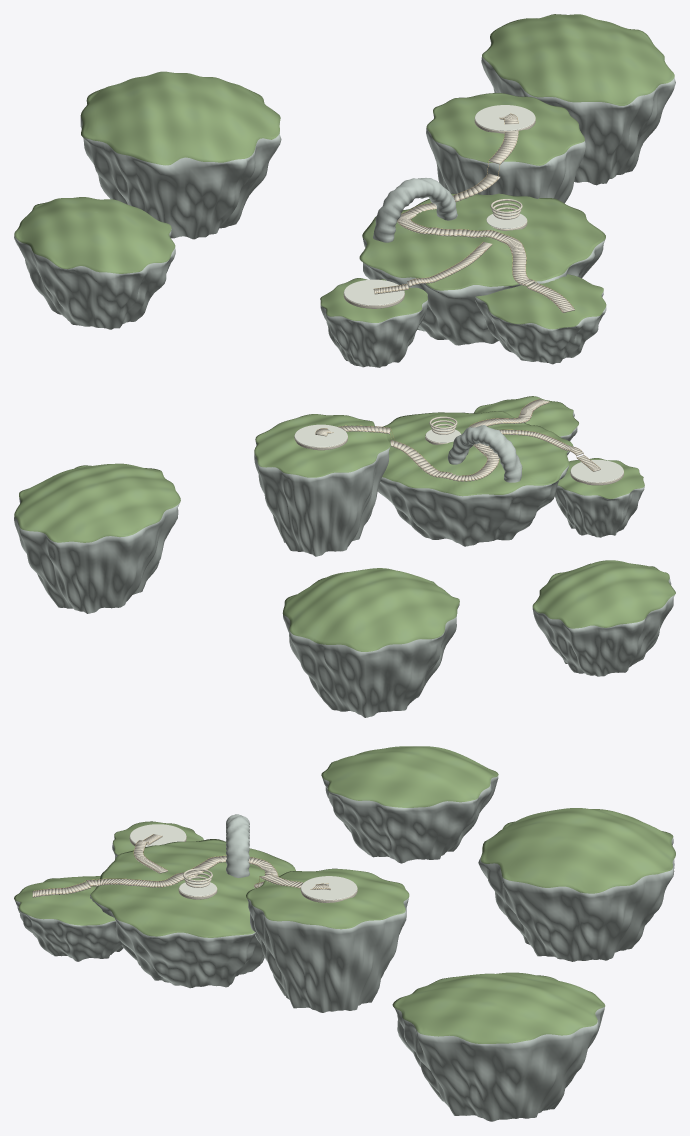
Rendered from cloud-world.glb.
3 renders of one model, top to bottom at view 1: azimuth 30°, elevation 25°; view 2: azimuth 150°, elevation 25°; view 3: azimuth 270°, elevation 25°, orthographic. The views are drawn at different scales.
Parts seen in each view (by area): view 1: Island_FarNorth.003, Island_FarEast.003, Island_Main.003, Island_FarWest.003, Island_Summit.003, Island_Arrival.003, Island_Conversation.003, Path_Stonework_0.003, Natural_Stone_Arch.003, PlatformRim_summit.003, PlatformRim_interview.003, Path_Stonework_1.003; view 2: Island_FarNorth.003, Island_FarEast.003, Island_Main.003, Island_Summit.003, Island_FarWest.003, Island_Conversation.003, Path_Stonework_0.003, Island_Arrival.003, Natural_Stone_Arch.003, PlatformRim_summit.003, PlatformRim_interview.003, Path_Stonework_1.003; view 3: Island_FarEast.003, Island_FarNorth.003, Island_Main.003, Island_Summit.003, Island_FarWest.003, Island_Arrival.003, Path_Stonework_0.003, Natural_Stone_Arch.003, PlatformRim_summit.003, PlatformRim_interview.003, Island_Conversation.003.
Part boxes in pixels (<box>): Island_FarNorth.003: <box>80,71,281,239</box>; Island_FarEast.003: <box>481,14,675,185</box>; Island_Main.003: <box>359,193,605,345</box>; Island_FarWest.003: <box>14,197,175,329</box>; Island_Summit.003: <box>426,93,586,203</box>; Island_Arrival.003: <box>475,274,606,364</box>; Island_Conversation.003: <box>320,278,427,367</box>; Path_Stonework_0.003: <box>397,114,574,312</box>; Natural_Stone_Arch.003: <box>373,178,457,242</box>; PlatformRim_summit.003: <box>475,105,535,130</box>; PlatformRim_interview.003: <box>344,279,404,305</box>; Path_Stonework_1.003: <box>373,242,492,294</box>; Island_FarNorth.003: <box>282,568,459,717</box>; Island_FarEast.003: <box>14,463,180,613</box>; Island_Main.003: <box>377,411,573,546</box>; Island_Summit.003: <box>254,414,390,556</box>; Island_FarWest.003: <box>532,560,675,676</box>; Island_Conversation.003: <box>554,458,644,537</box>; Path_Stonework_0.003: <box>315,399,549,481</box>; Island_Arrival.003: <box>474,396,578,440</box>; Natural_Stone_Arch.003: <box>447,425,522,482</box>; PlatformRim_summit.003: <box>294,424,347,447</box>; PlatformRim_interview.003: <box>570,460,623,482</box>; Path_Stonework_1.003: <box>497,429,600,471</box>; Island_FarEast.003: <box>392,972,605,1121</box>; Island_FarNorth.003: <box>478,808,675,961</box>; Island_Main.003: <box>90,839,295,988</box>; Island_Summit.003: <box>246,868,409,1012</box>; Island_FarWest.003: <box>321,746,498,863</box>; Island_Arrival.003: <box>14,876,123,961</box>; Path_Stonework_0.003: <box>32,856,330,897</box>; Natural_Stone_Arch.003: <box>226,814,249,877</box>; PlatformRim_summit.003: <box>301,876,357,900</box>; PlatformRim_interview.003: <box>130,824,186,847</box>; Island_Conversation.003: <box>112,821,203,858</box>.
Size of the model in its own units: 127 by 28.73 by 116.
